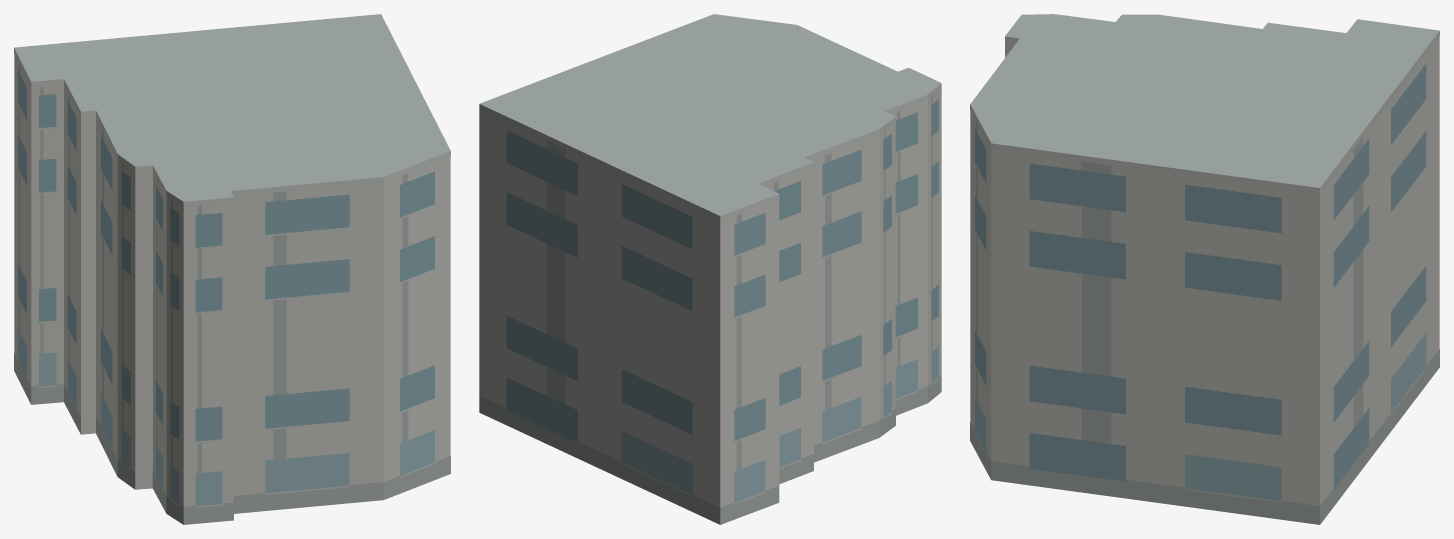
Rendered from survey-upis-32818914.glb.
3 renders of one model, left to right at view 1: azimuth 30°, elevation 25°; view 2: azimuth 150°, elevation 25°; view 3: azimuth 270°, elevation 25°, orthographic. The views are drawn at different scales.
Parts seen in each view (by area): view 1: survey-upis-32818914.tmp; view 2: survey-upis-32818914.tmp; view 3: survey-upis-32818914.tmp.
Boxes of the visible parts, <box> form: survey-upis-32818914.tmp: <box>14,14,450,524</box>; survey-upis-32818914.tmp: <box>479,14,941,524</box>; survey-upis-32818914.tmp: <box>970,14,1439,524</box>.
Bounding box in the file's own units: 15.63 × 14.1 × 17.82.
